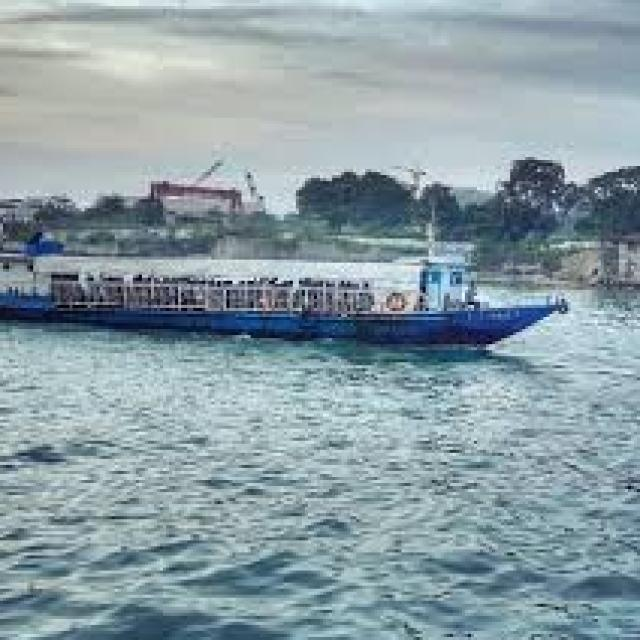houseboat: (0, 251, 568, 341)
